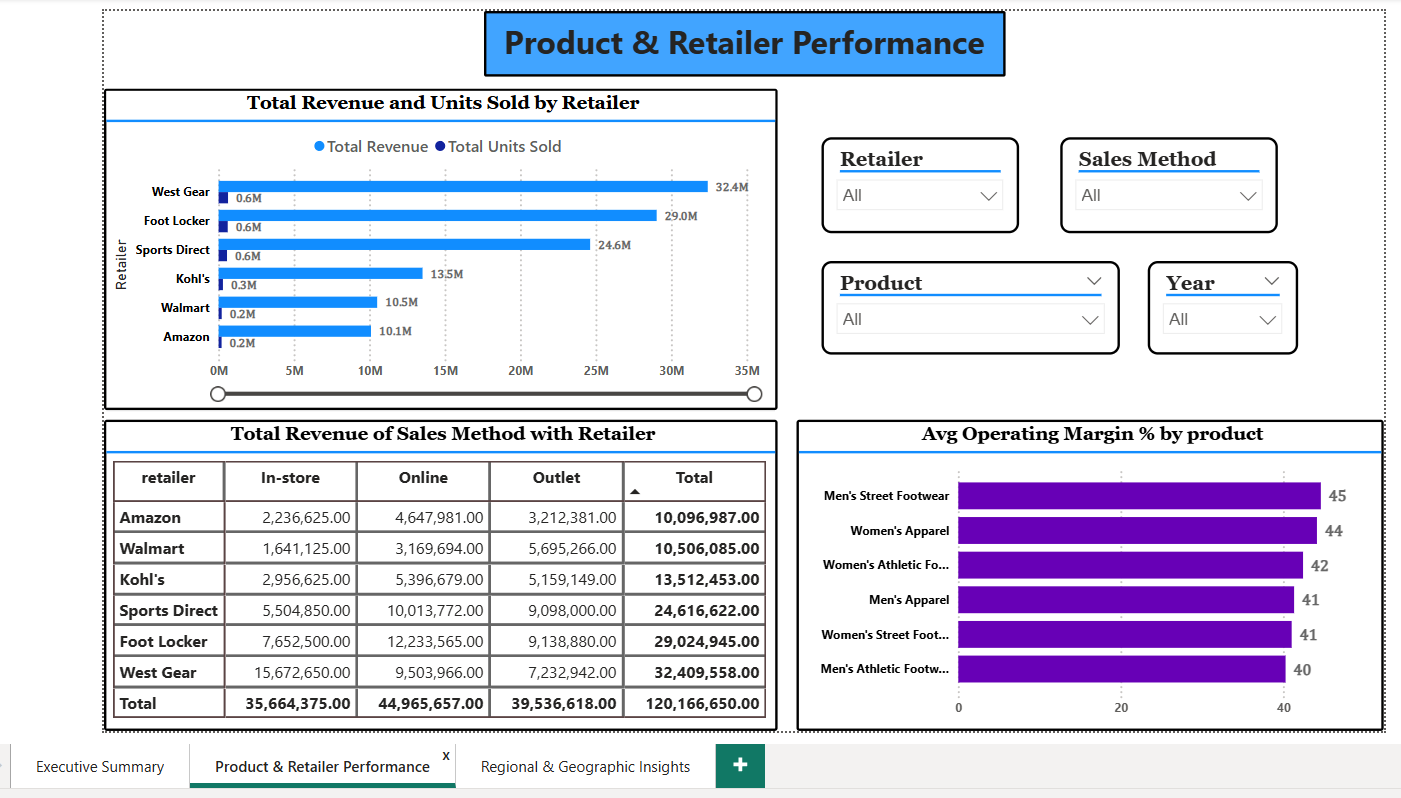

What the dashboard file says about the page in this screenshot:
{"tool":"powerbi","page":{"name":"Product & Retailer Performance","canvas":[1280,720],"ordinal":1},"visuals":[{"type":"textbox","box":[379.6,0,522,65.2],"z":0},{"type":"clusteredBarChart","title":"Total Revenue and Units Sold by Retailer","fields":{"Category":["adidas_data adidas.retailer"],"Y":["adidas_data adidas.Total Revenue","adidas_data adidas.Total Units Sold"]},"box":[0,77.1,673.2,321.8],"z":1000},{"type":"barChart","fields":{"Y":["adidas_data adidas.Avg Operating Margin %"],"Category":["adidas_data adidas.product"]},"box":[692.5,409.3,587.2,311.4],"z":2000},{"type":"pivotTable","title":" Total Revenue of Sales Method with Retailer","fields":{"Rows":["adidas_data adidas.retailer"],"Columns":["adidas_data adidas.sales_method"],"Values":["adidas_data adidas.Total Revenue"]},"box":[0,409.3,673.2,311.4],"z":3000},{"type":"slicer","fields":{"Values":["adidas_data adidas.product"]},"box":[717.5,250,298.8,93.8],"z":4000},{"type":"slicer","fields":{"Values":["adidas_data adidas.retailer"]},"box":[717.7,126,197.2,96.4],"z":5000},{"type":"slicer","fields":{"Values":["adidas_data adidas.sales_method"]},"box":[956.5,126,218,96.4],"z":6000},{"type":"slicer","fields":{"Values":["adidas_data adidas.invoice_date.Variation.Date Hierarchy.Year"]},"box":[1043.8,250,150,93.8],"z":7000}]}

Visuals, with their boxes on the page's 1280x720 design canvas (x1, y1, x2, y2). These are canvas units, not pixel positions in the 1401x798 screenshot, which may show the page scaled, cropped or inside an application window:
textbox: l=380, t=0, r=902, b=65
"Total Revenue and Units Sold by Retailer" clusteredBarChart: l=0, t=77, r=673, b=399
barChart - adidas_data adidas.Avg Operating Margin % x adidas_data adidas.product: l=692, t=409, r=1280, b=721
" Total Revenue of Sales Method with Retailer" pivotTable: l=0, t=409, r=673, b=721
slicer - adidas_data adidas.product: l=718, t=250, r=1016, b=344
slicer - adidas_data adidas.retailer: l=718, t=126, r=915, b=222
slicer - adidas_data adidas.sales_method: l=956, t=126, r=1174, b=222
slicer - adidas_data adidas.invoice_date.Variation.Date Hierarchy.Year: l=1044, t=250, r=1194, b=344
